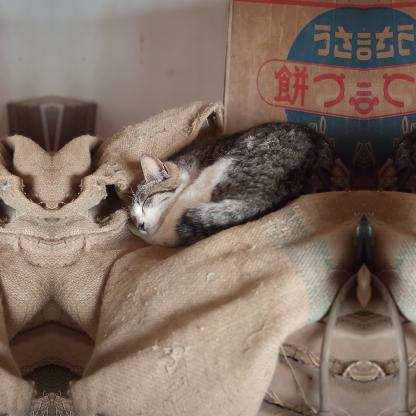Cat: (127, 119, 335, 248)
